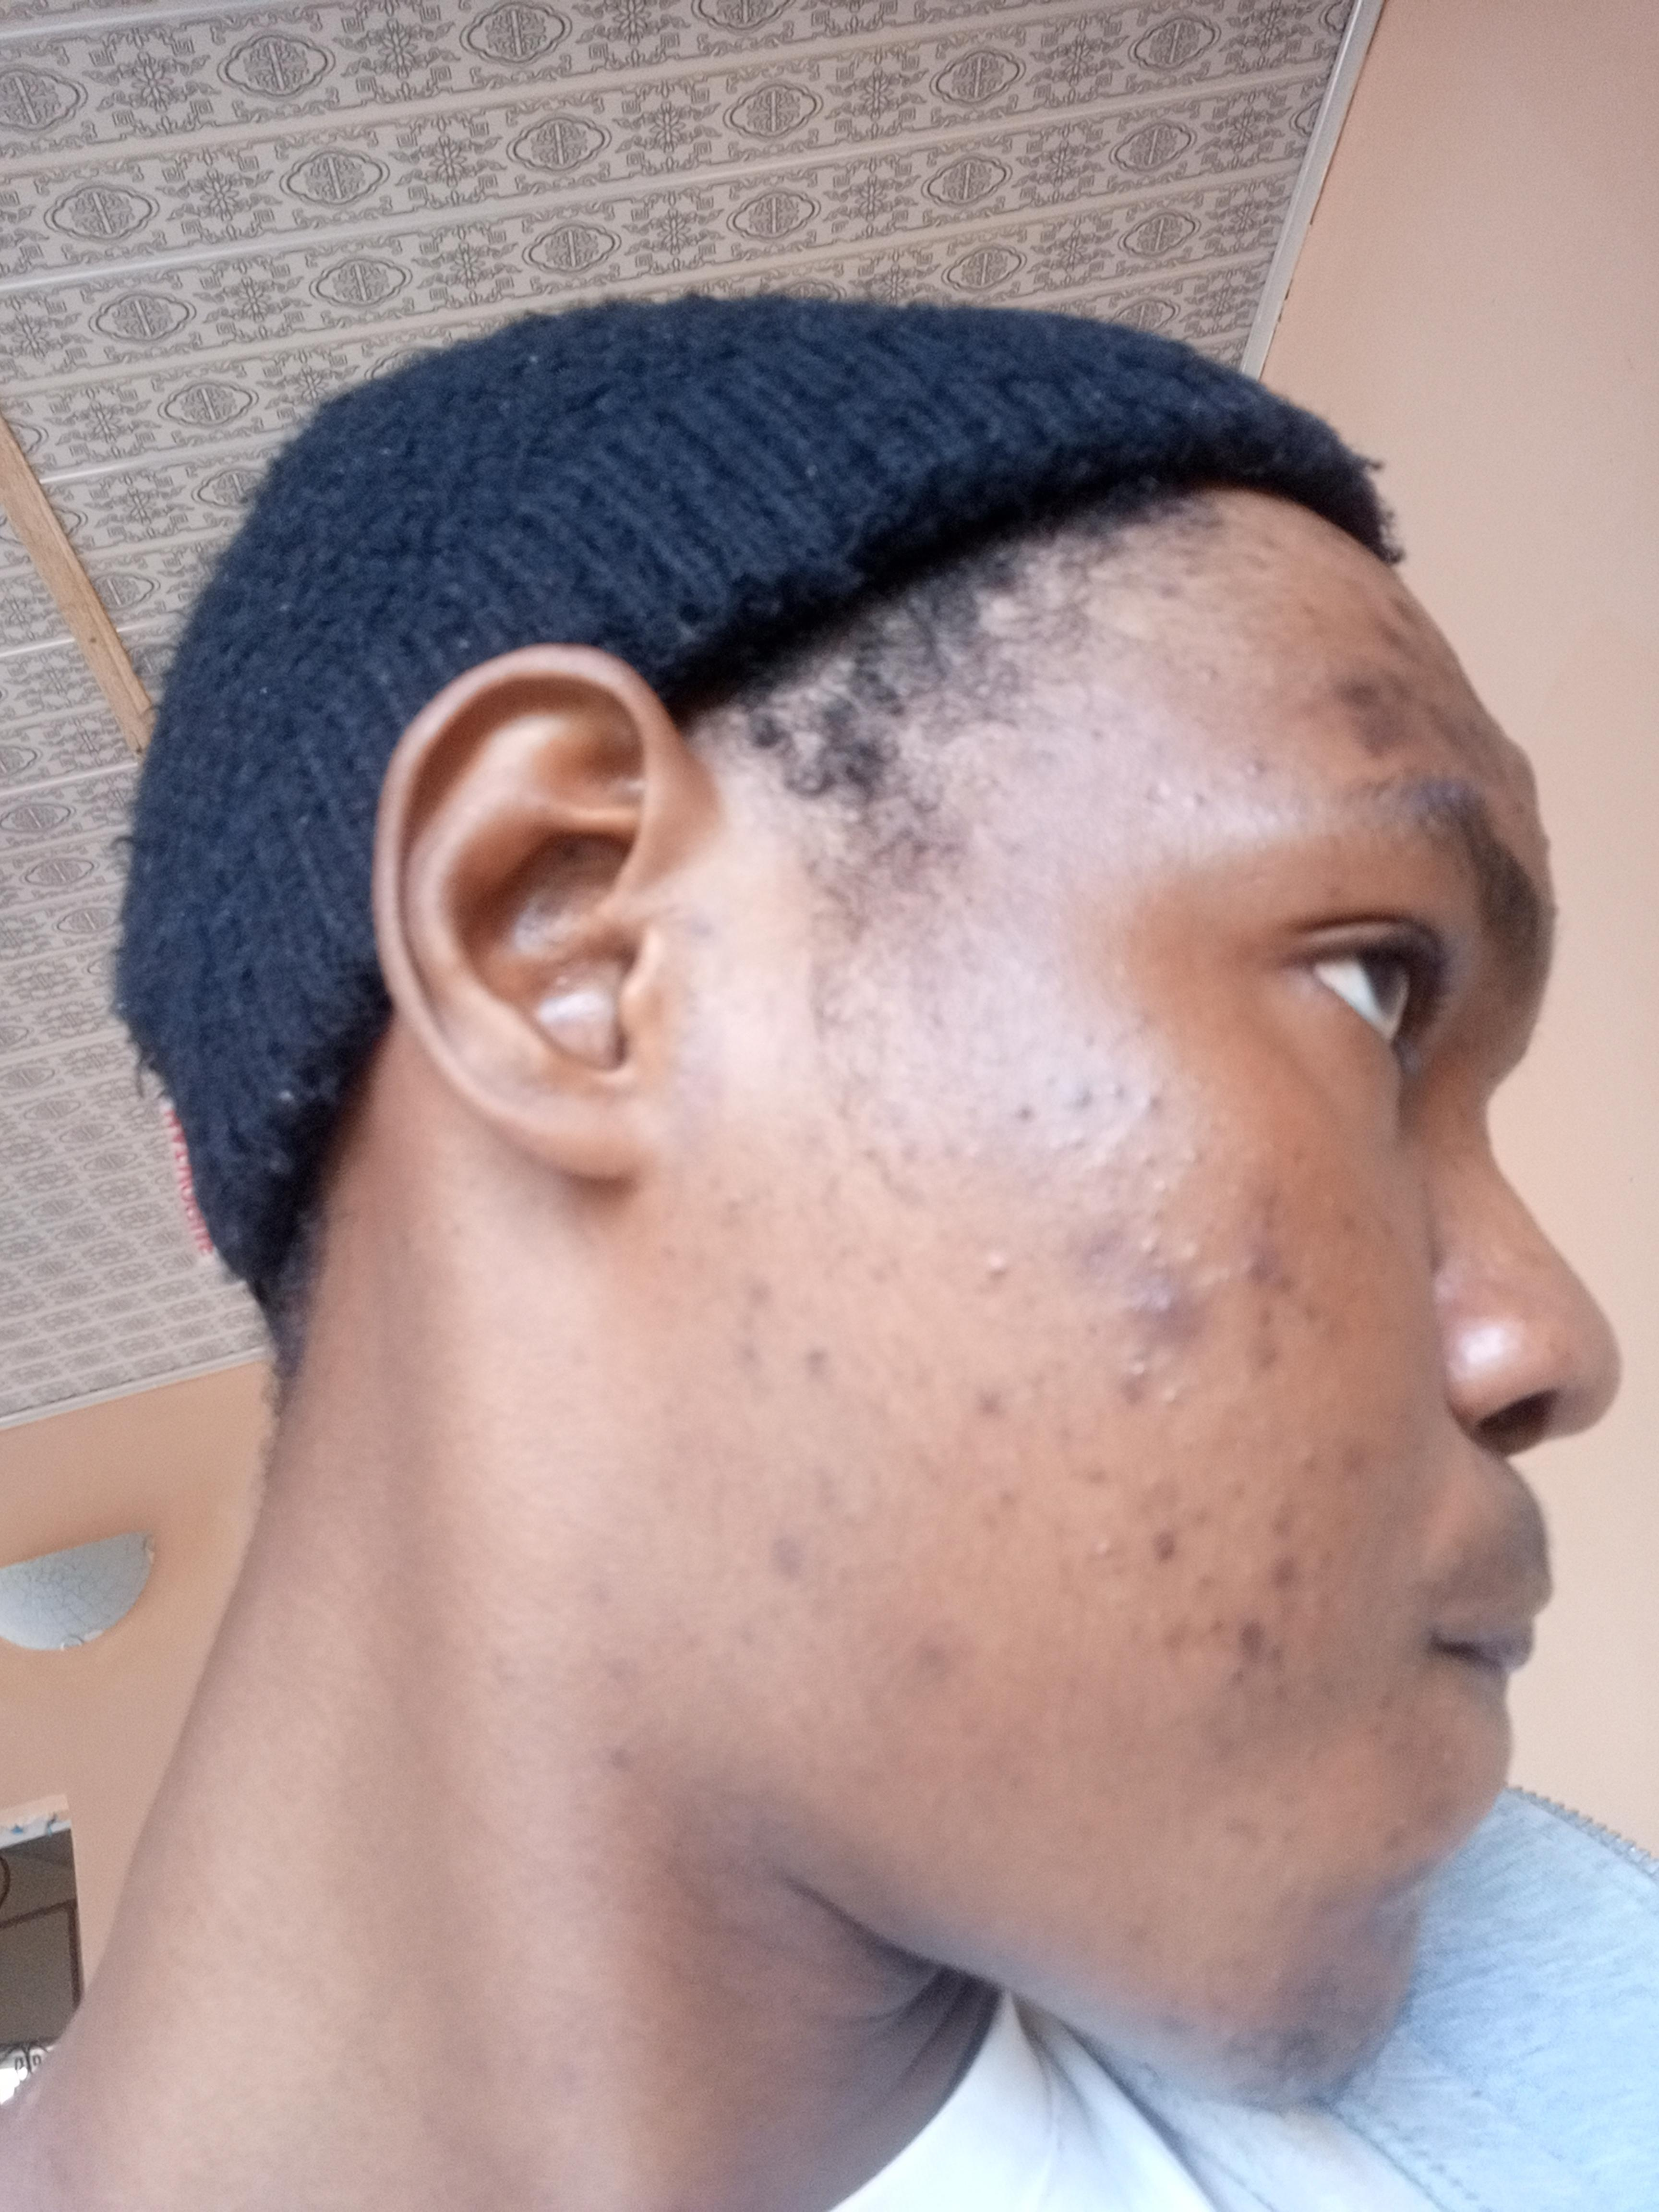Acne: (1061, 1197, 1215, 1420), (1147, 1602, 1317, 1703), (1068, 1453, 1195, 1561), (1236, 1188, 1302, 1366), (1319, 667, 1419, 768), (1424, 702, 1528, 792), (720, 1252, 782, 1388), (1054, 1064, 1180, 1123), (1270, 1433, 1375, 1489), (1358, 577, 1424, 660), (1134, 765, 1225, 820), (1258, 1503, 1316, 1590), (1340, 1677, 1410, 1749), (1223, 524, 1298, 587), (760, 1508, 829, 1573), (1161, 644, 1229, 707), (978, 1465, 1039, 1534), (1209, 1806, 1297, 1855), (802, 1449, 852, 1522), (1359, 1811, 1422, 1869), (1178, 1714, 1251, 1759), (958, 1364, 1011, 1420), (967, 1245, 1018, 1303), (915, 1625, 964, 1677), (791, 1331, 840, 1381), (605, 1731, 643, 1787), (1143, 2003, 1202, 2038), (1002, 1094, 1039, 1141), (1230, 744, 1270, 784)
